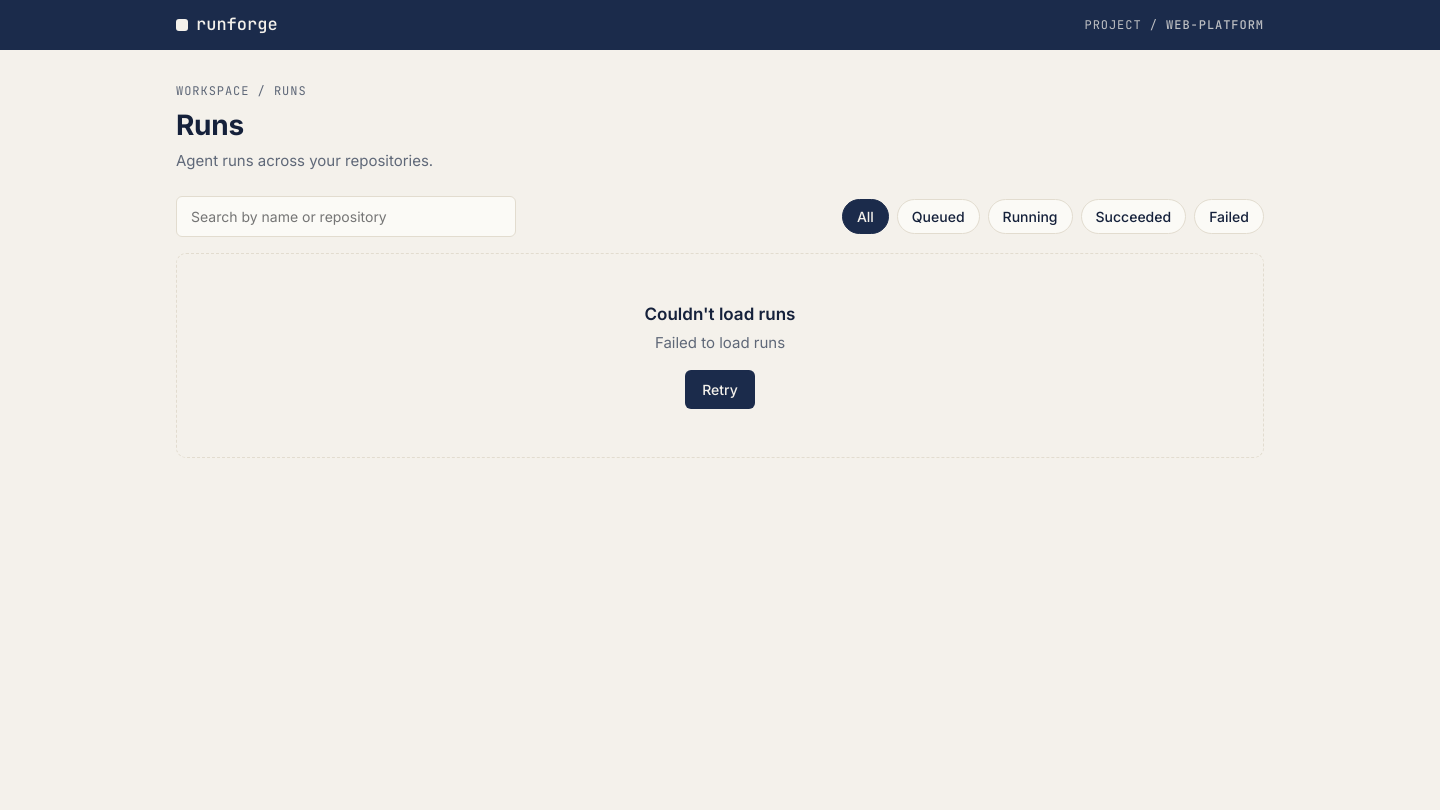
Test: Runs page › shows an error and retries loading
Expected: the message shows "Failed to load runs", [655,332,785,352]
Step 1. Click the button "Retry" → {"x": 720, "y": 390}, box [685,370,755,409]
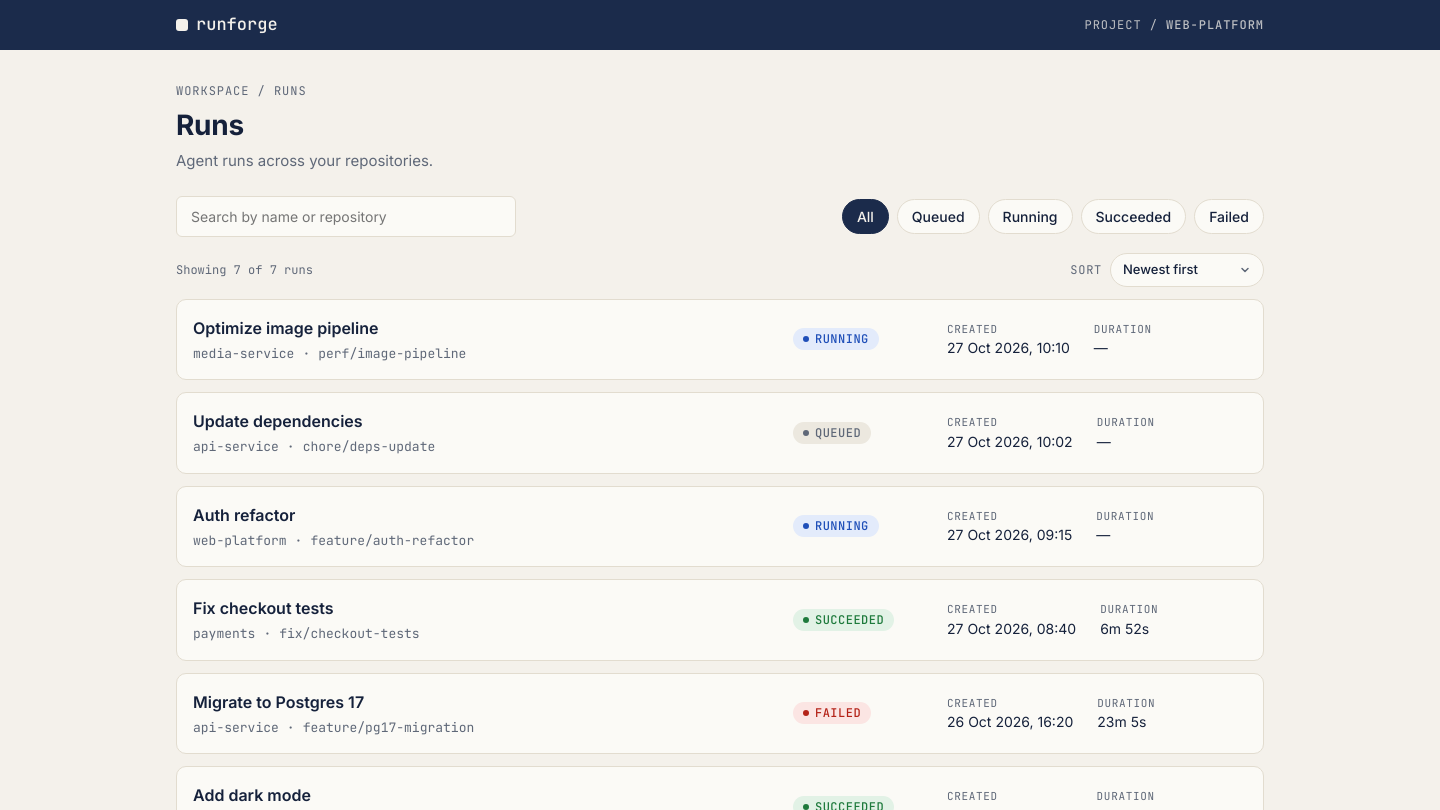
Now the link "Auth refactor" is shown, box [193,504,295,524]
